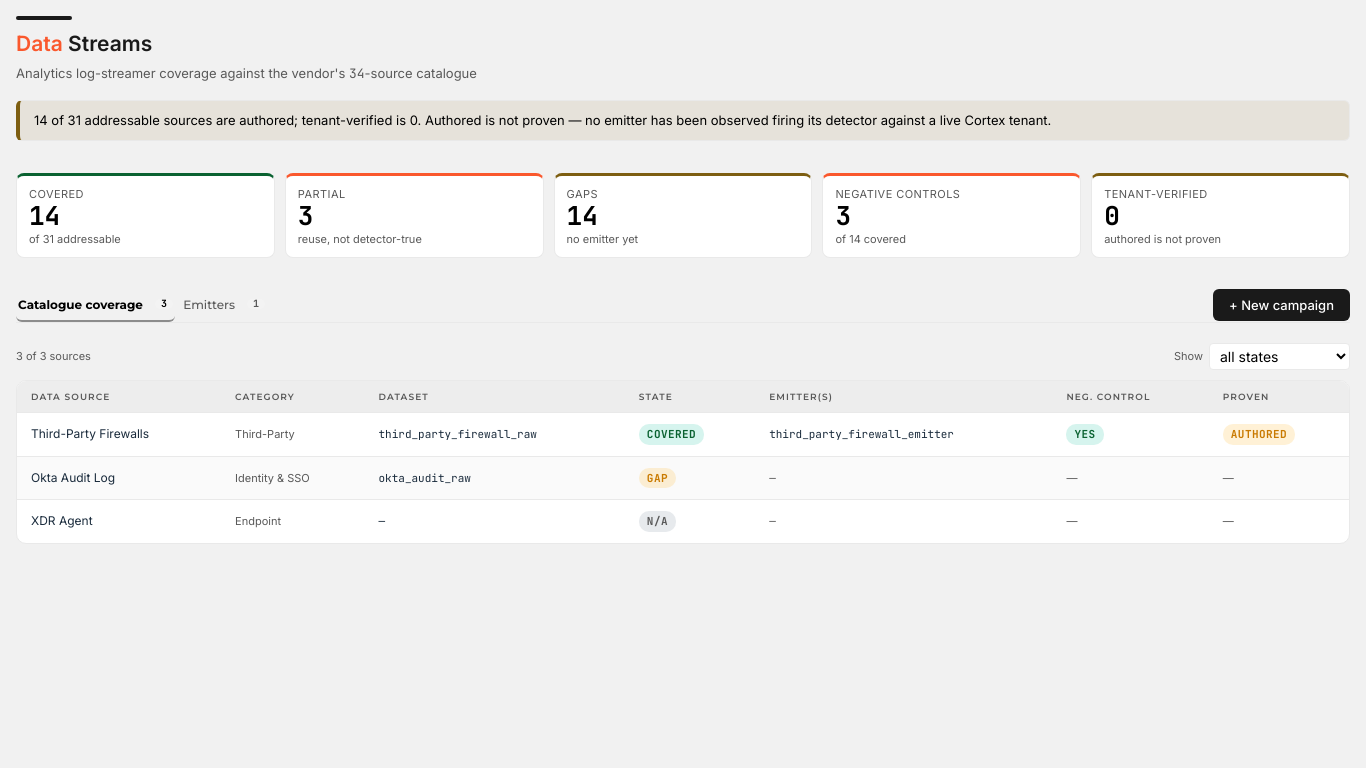
Test: <DataStreamsView /> › gap filter shows only gap sources — a gap reads as a gap, not as absent
Check: the text "Okta Audit Log" is shown, box [17,456,221,500]
Select "gaps only" in the dropdown at (1280, 357), box [1209,343,1350,370]
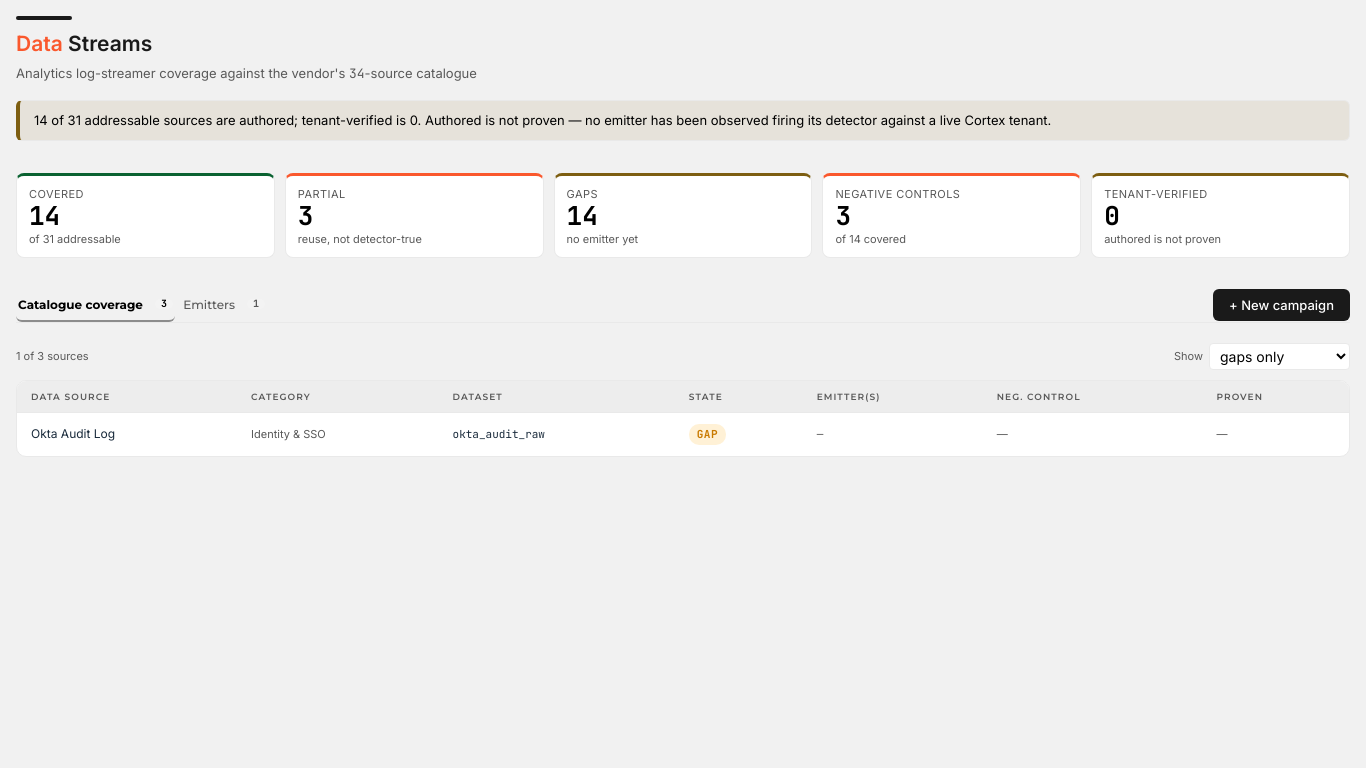
Check: the text "Okta Audit Log" is shown, box [17,413,237,456]
Check: the text "Third-Party Firewalls" is gone
